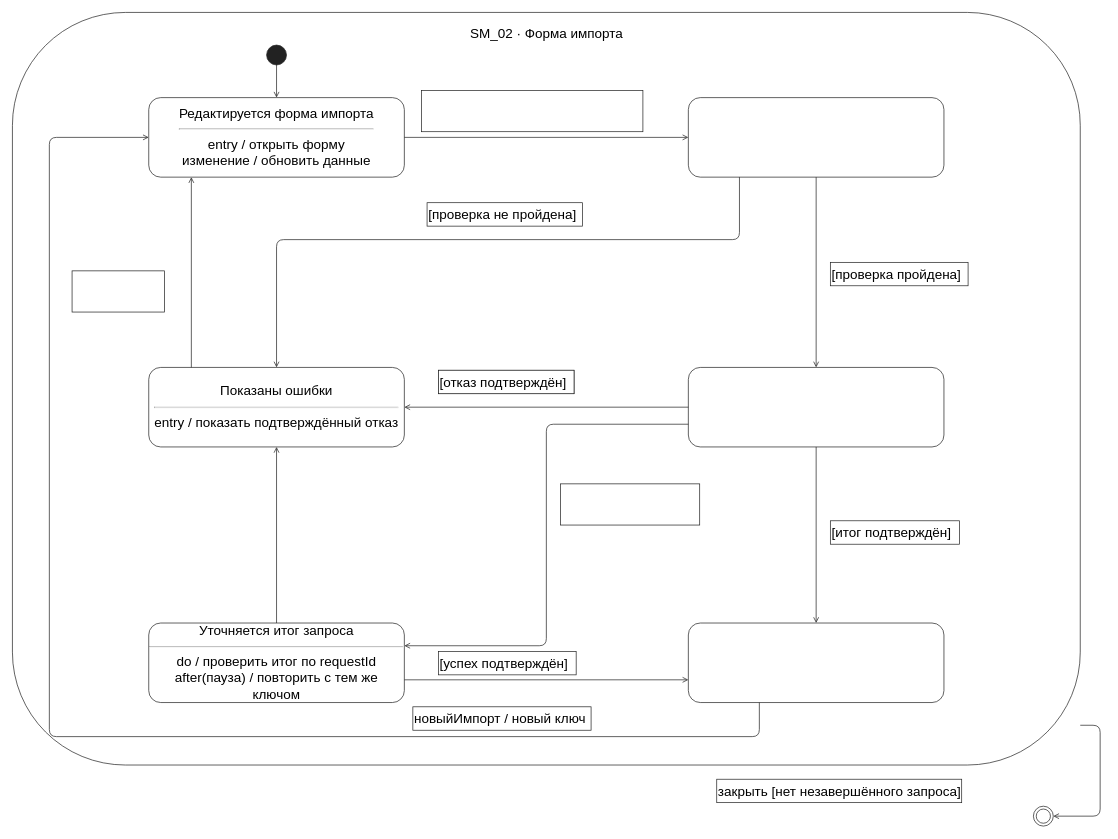
Image size: 1118x839. Some labels were removed from this diagram. The shapes that lost their labels are listed below. From the top down, each one's centre as x and y in pixels, then its label:
At point (532, 111): "отправить / получить или сохранить requestId".
At point (816, 137): "Проверяются данные do / проверить права, ключ и файл".
At point (117, 291): "исправить / новый ключ".
At point (816, 407): "Выполняется импорт do / проверить и сохранить атомарно".
At point (630, 504): "[связь потеряна или итог неизвестен]".
At point (816, 662): "Показан результат импорта entry / показать сохранённый итог".
